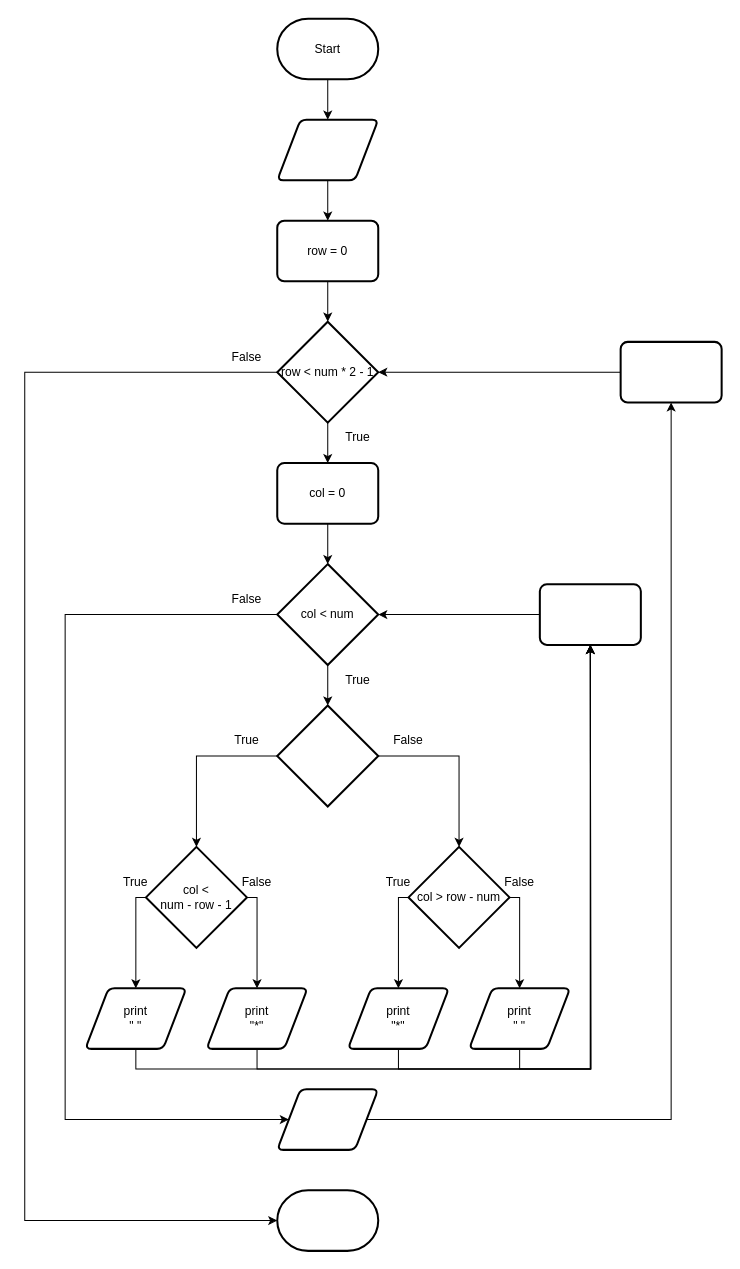
Some shapes in this 740 by 1269 pixel diagram are drawn without their labels. Here are the shapes that lost their labels. From the top down, the centre of each, then its label:
the point at 327,149: input num
the point at 670,371: row++
the point at 589,614: col++
the point at 327,755: row < num
the point at 327,1119: print "\n"
the point at 327,1220: End
